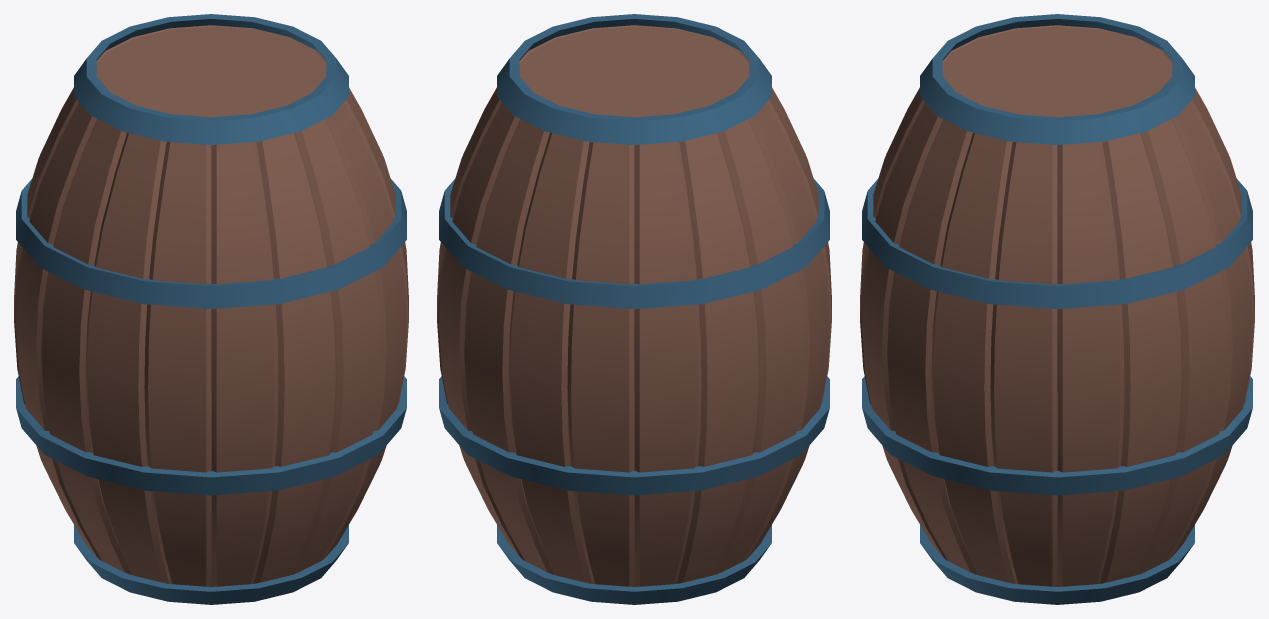
The model's file is barrel.FBX.
3 renders of one model, left to right at view 1: azimuth 30°, elevation 25°; view 2: azimuth 150°, elevation 25°; view 3: azimuth 270°, elevation 25°, orthographic.
Parts seen in each view (by area): view 1: barrel_LOD0; view 2: barrel_LOD0; view 3: barrel_LOD0.
Boxes of the visible parts, x1,y1,x2,y2 form: barrel_LOD0: [14, 14, 408, 604]; barrel_LOD0: [437, 14, 831, 604]; barrel_LOD0: [860, 14, 1254, 604].
Size of what is drawn, in the model's own units: 96.97 by 130 by 95.93.
